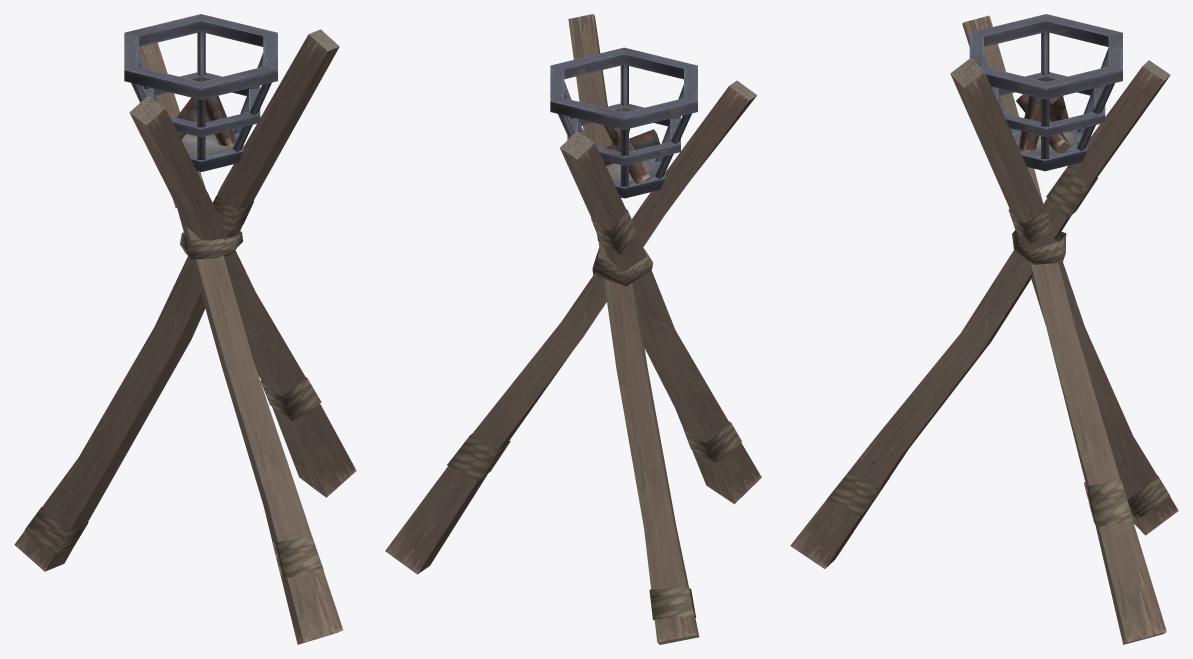
The model's file is Homeworld_Exterior_Dq_Decoration_FireBasin_01_Vo.fbx.
3 renders of one model, left to right at view 1: azimuth 30°, elevation 25°; view 2: azimuth 150°, elevation 25°; view 3: azimuth 270°, elevation 25°, orthographic. The views are drawn at different scales.
Visible parts, largest first — view 1: Property_Prop_FireBasin_02_Vo; view 2: Property_Prop_FireBasin_02_Vo; view 3: Property_Prop_FireBasin_02_Vo.
Boxes of the visible parts, x1=… form: Property_Prop_FireBasin_02_Vo: x1=14, y1=14, x2=356, y2=644; Property_Prop_FireBasin_02_Vo: x1=385, y1=14, x2=761, y2=644; Property_Prop_FireBasin_02_Vo: x1=790, y1=14, x2=1178, y2=644.
Size of the model in its own units: 0.9967 by 1.62 by 1.03.
